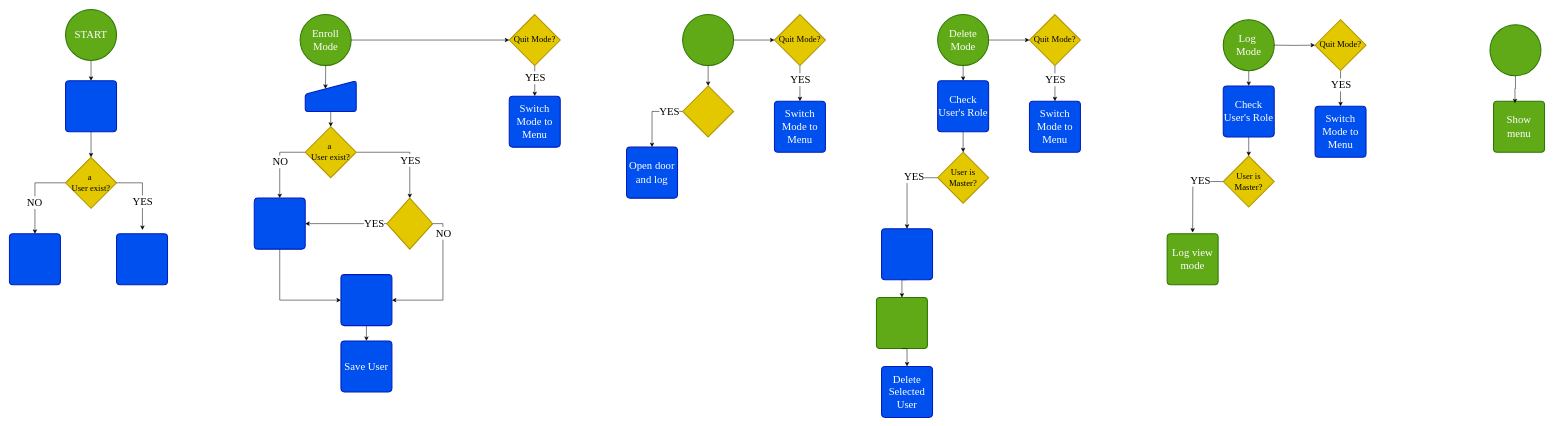
The diagram is 1553 pixels wide and 426 high, and some of its shapes have lost their labels. Each missing label, with the centre of its shape:
Access Mode: the point at 708,40
Enroll user: the point at 366,300
Input name: the point at 330,96
Make user Master: the point at 279,223
Menu Mode: the point at 1515,50
perform all configurations: the point at 91,106
Set mode to "access": the point at 35,259
Set mode to "enroll": the point at 142,259
show list of users: the point at 907,254
User Master?: the point at 409,223
User Selection Mode: the point at 902,323
Valid user?: the point at 708,111
